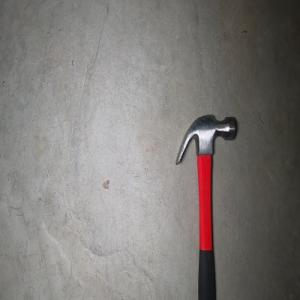Hammer: (174, 113, 237, 300)
